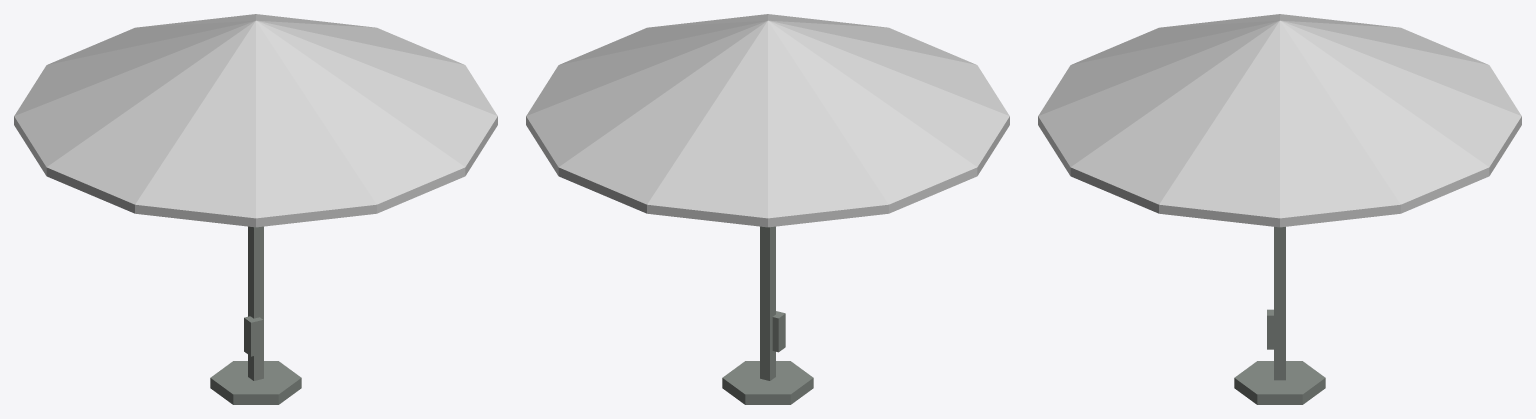
Rendered from Parasol.glb.
3 renders of one model, left to right at view 1: azimuth 30°, elevation 25°; view 2: azimuth 150°, elevation 25°; view 3: azimuth 270°, elevation 25°, orthographic.
Visible parts, largest first — view 1: Cylinder; view 2: Cylinder; view 3: Cylinder.
Boxes of the visible parts, x1,y1,x2,y2 form: Cylinder: [14, 14, 497, 404]; Cylinder: [526, 14, 1009, 404]; Cylinder: [1038, 14, 1521, 404].
Size of the model in its own units: 4.7 by 3.94 by 4.7.
1 material, 1 textured.
